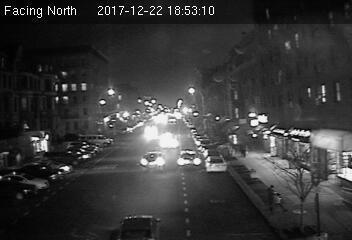car: (138, 150, 167, 171), (177, 149, 201, 168), (205, 155, 227, 173)
